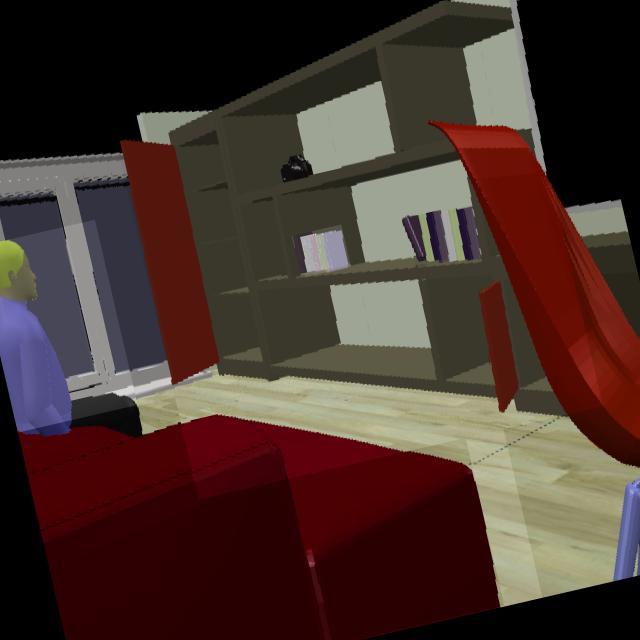book: (292, 231, 348, 275), (407, 212, 450, 263)
bookshelf: (121, 0, 563, 414)
chair: (433, 121, 640, 471)
monitor: (515, 0, 620, 210), (516, 0, 620, 209)
person: (0, 241, 142, 440)
sofa: (18, 414, 503, 640)
